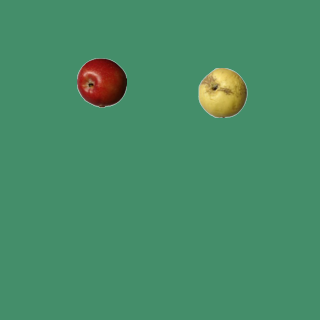Apple Braeburn: (76, 57, 126, 107)
Apple Golden 1: (197, 67, 247, 117)
